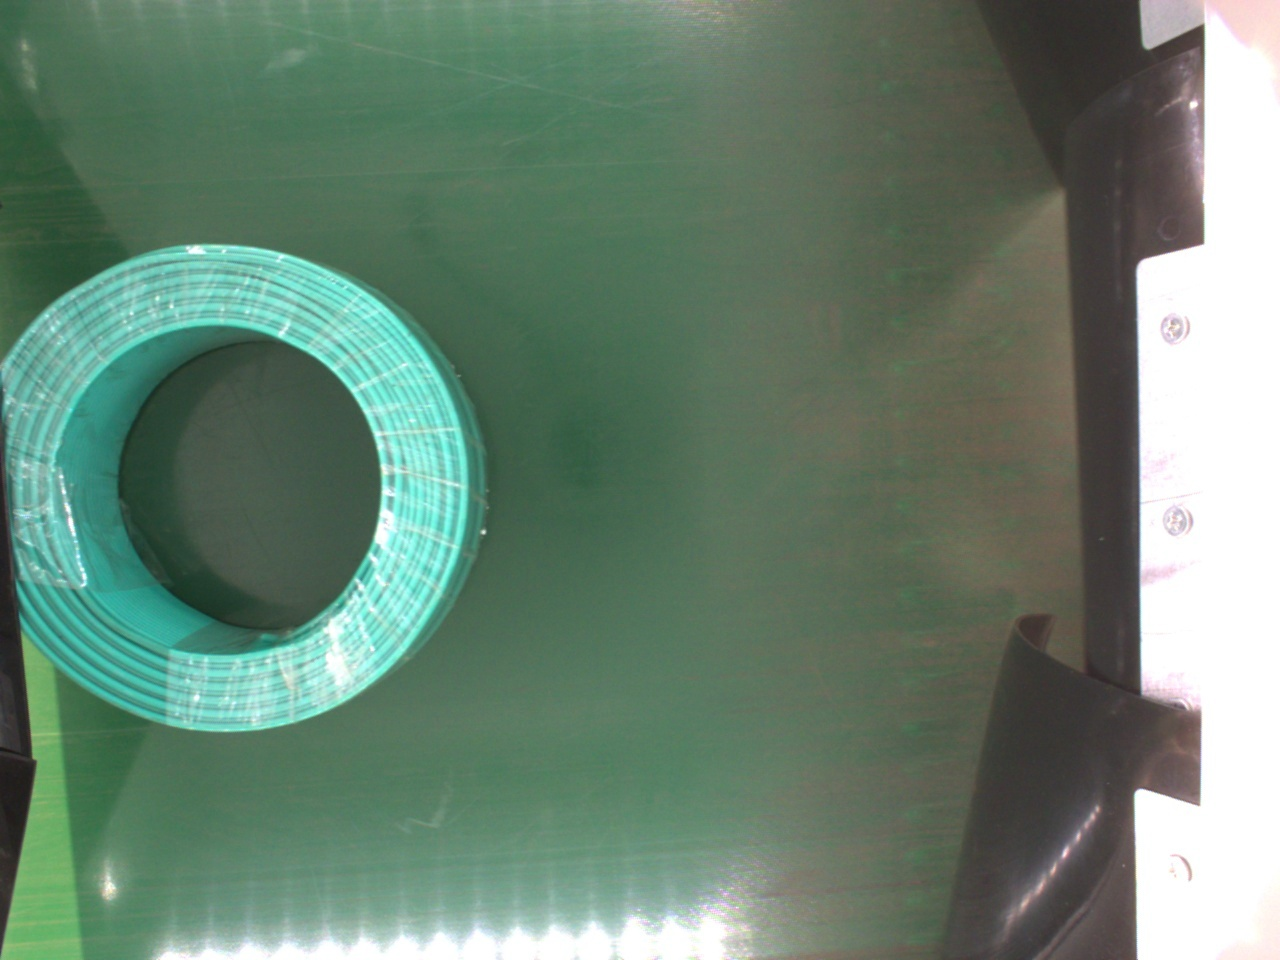green: (19, 240, 487, 730)
